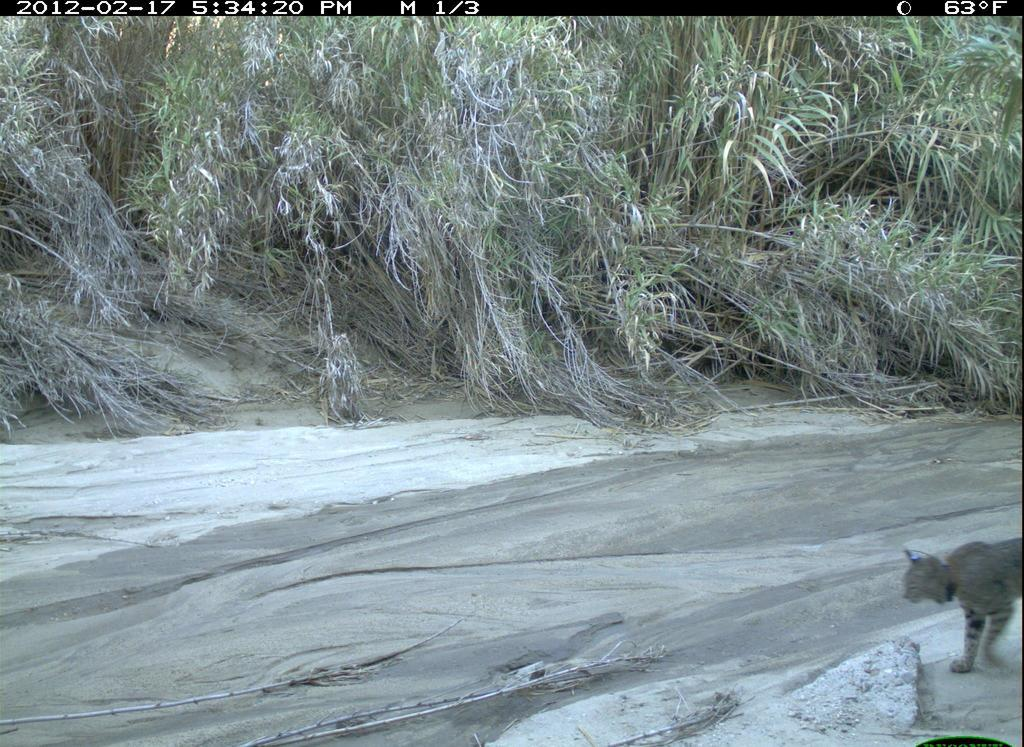bobcat: (900, 533, 1023, 676)
